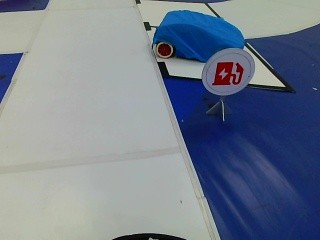battery: (204, 51, 254, 95)
car: (151, 10, 247, 61)
